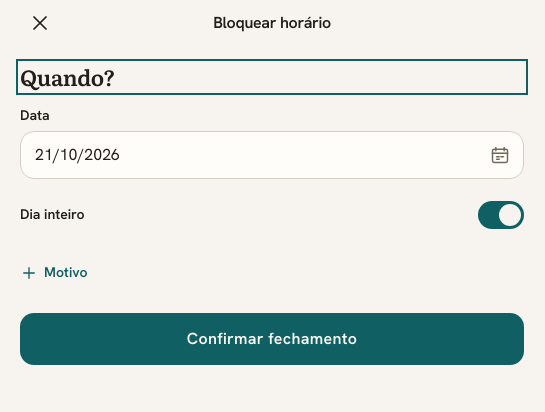
Scenario: disponibilidade extra e indisponibilidade podem ser criadas e removidas por data › o dia fechado de dia inteiro nasce em Bloquear horário com o payload de antes
The width and height of the screenshot is (545, 412).
Expected: the switch named "Dia inteiro" is checked, [478,200,524,228]
Click the button "Motivo" at x=54, y=272, box [20,250,88,294]
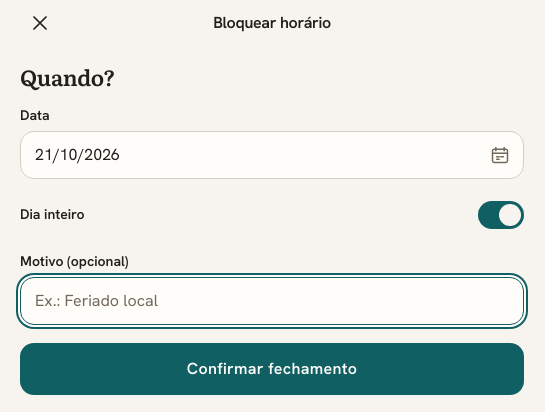
Type "Feriado local" into the field labelled "Motivo (opcional)" at x=272, y=300, box [20,276,524,324]
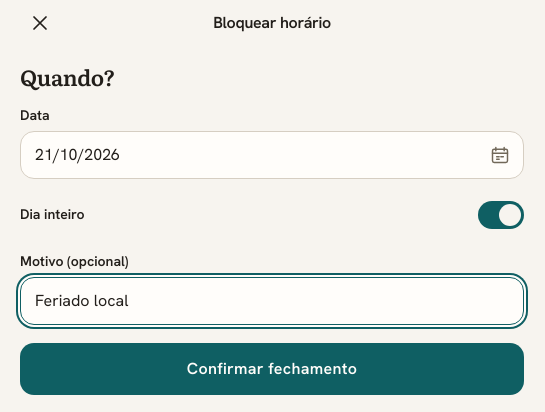
Click the button "Confirmar fechamento" at x=272, y=368, box [20,342,524,394]
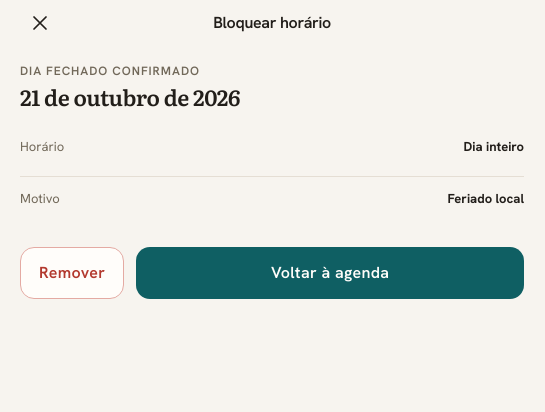
Expected: the text "Dia fechado confirmado" is shown, [20,63,200,79]
Expected: the text "Feriado local" is shown, [447,188,524,208]
